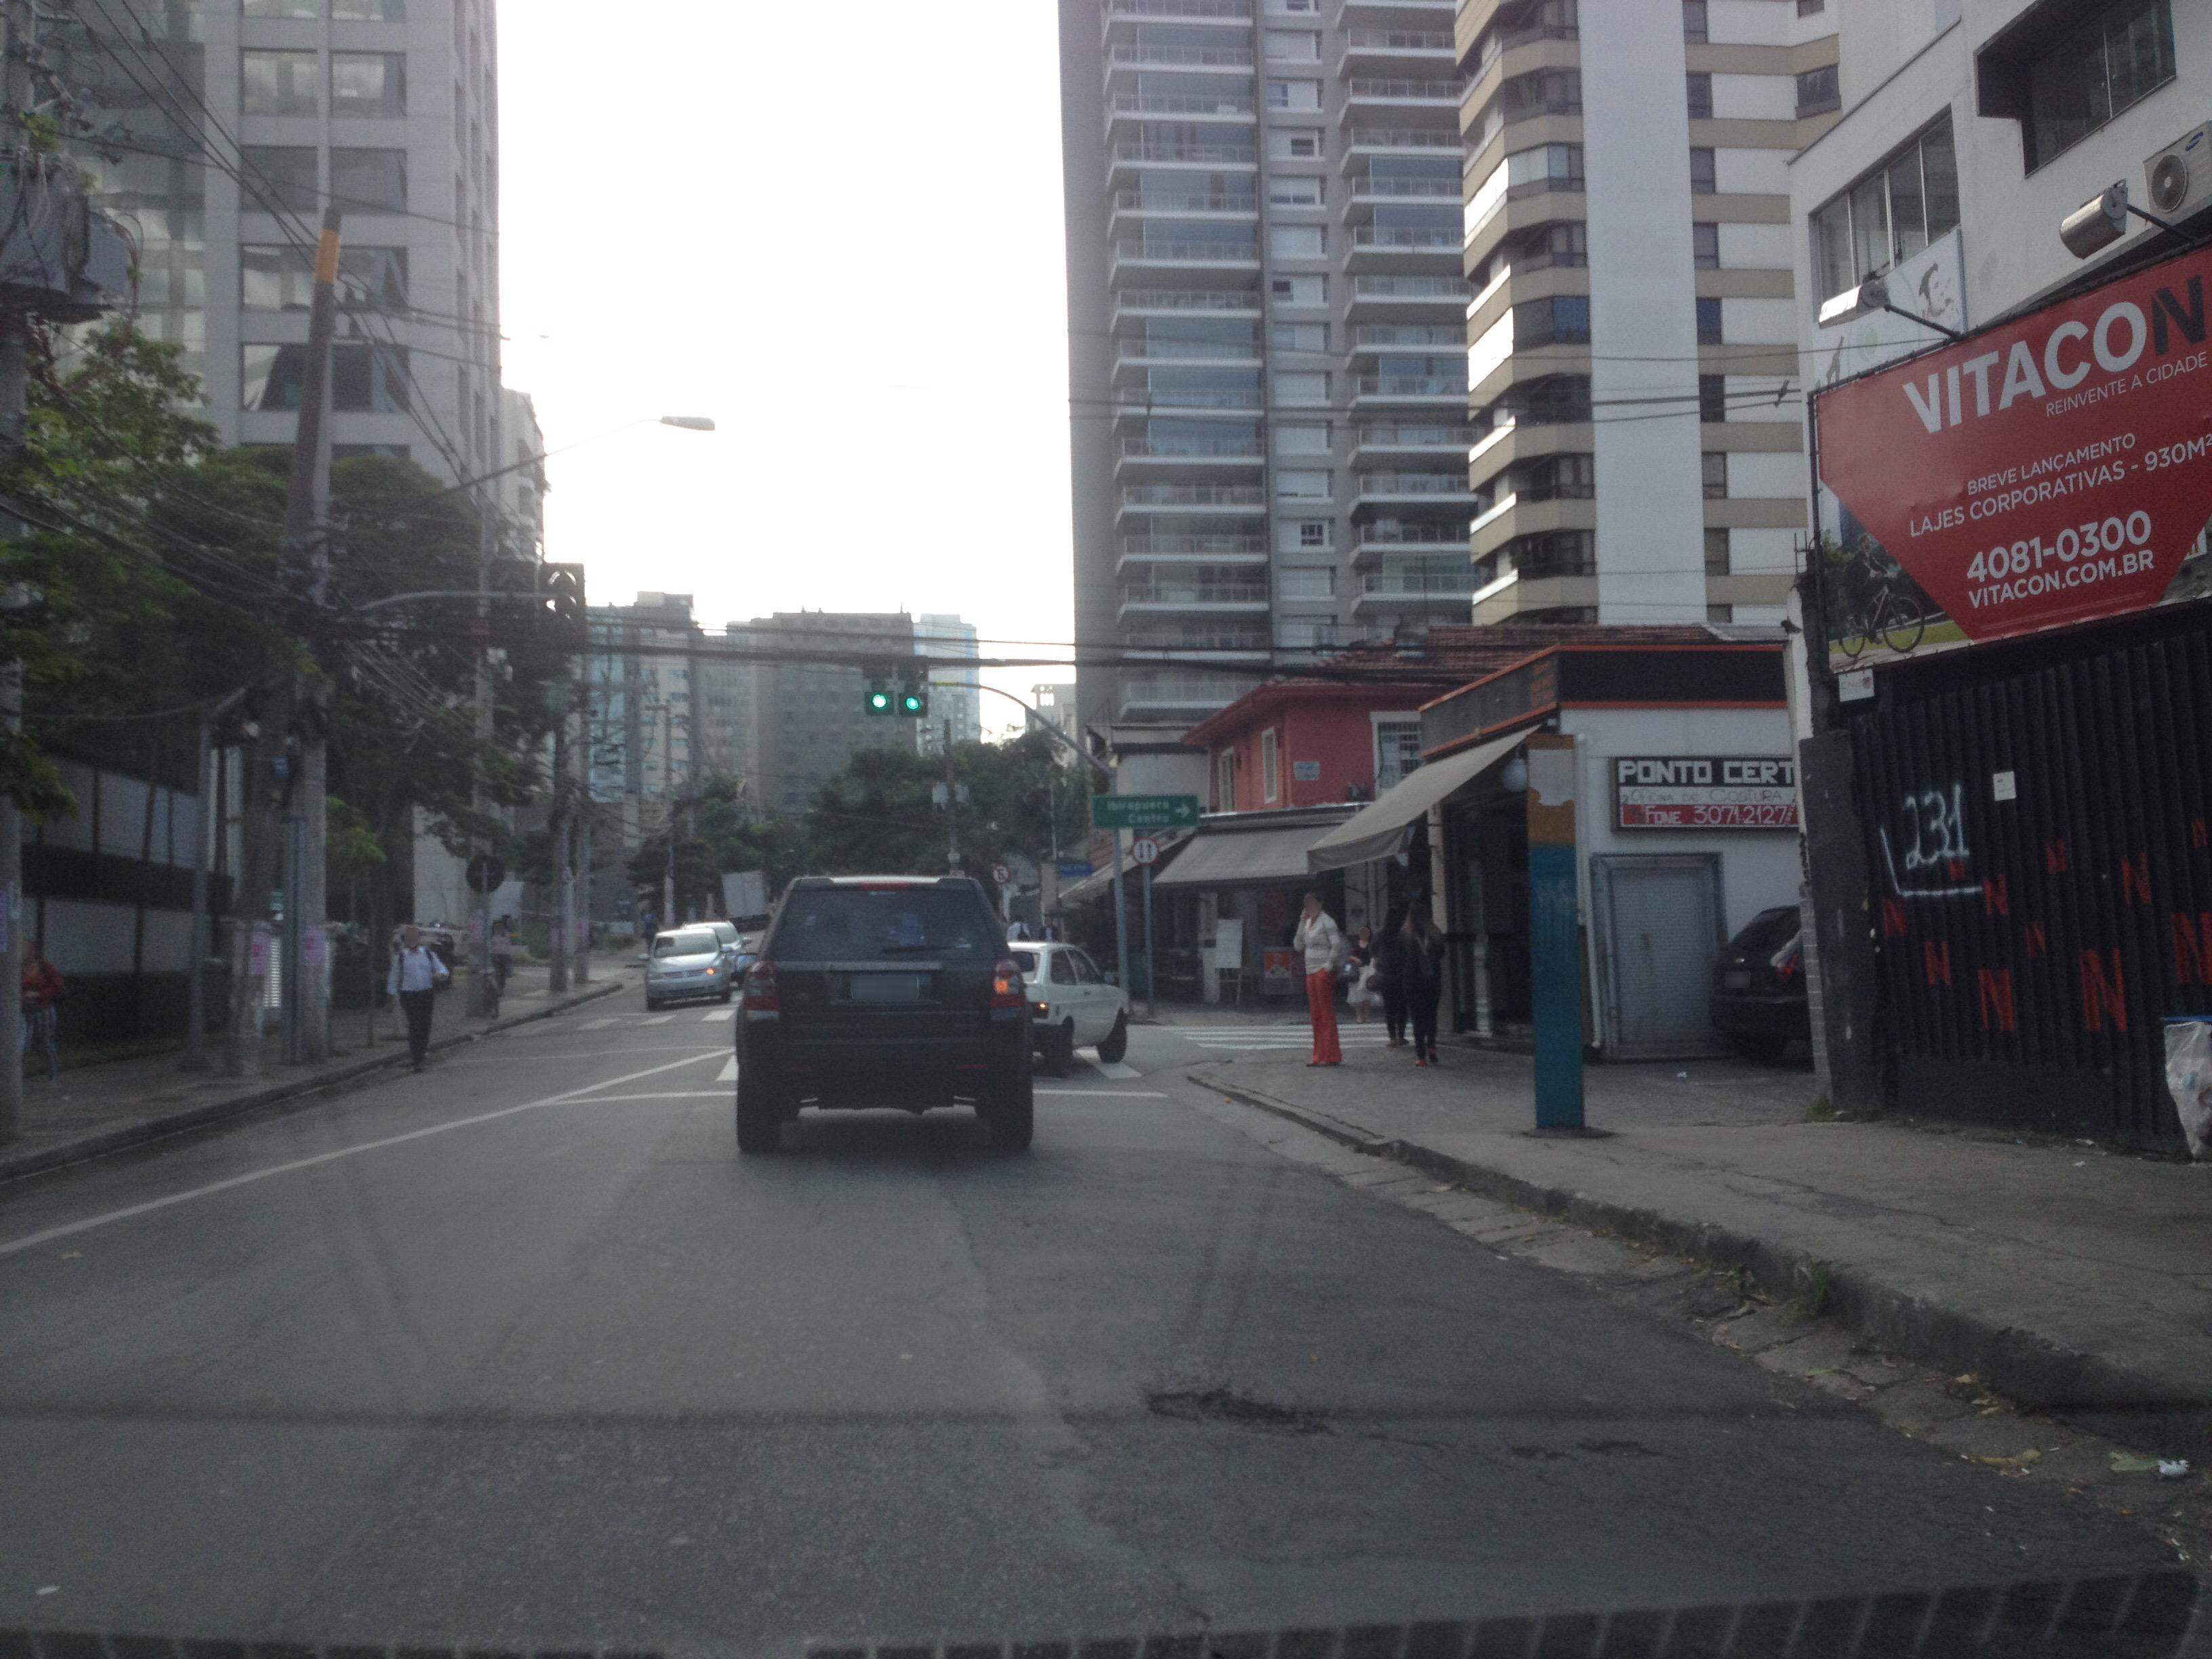vinyl banner: (1782, 240, 2212, 667)
